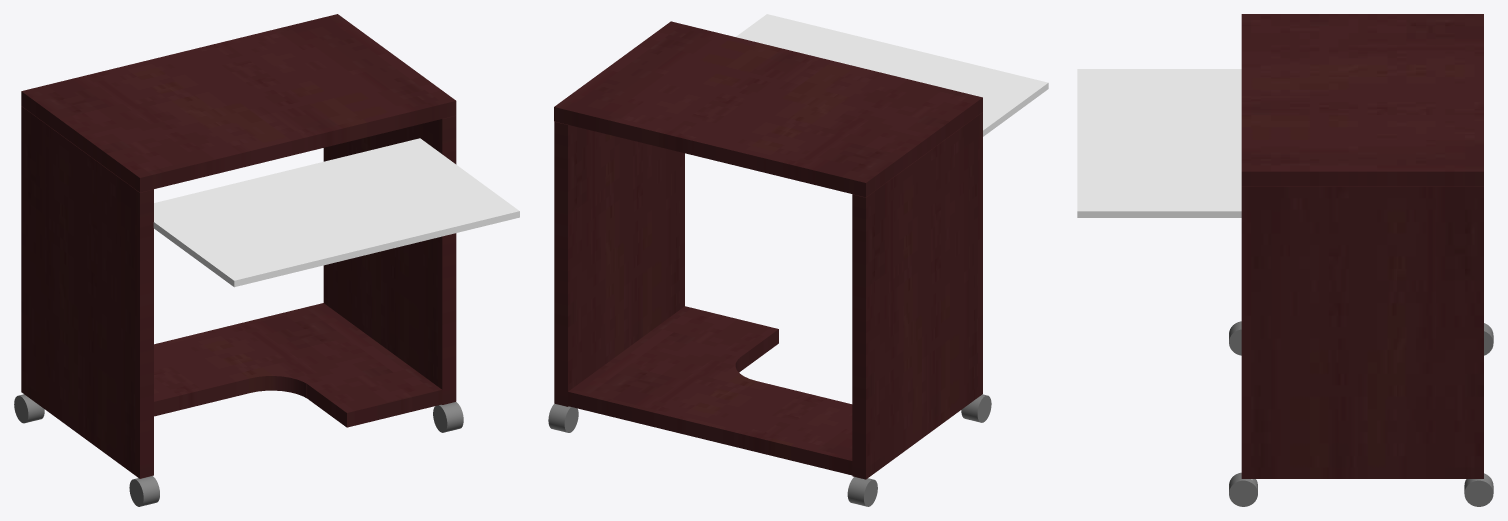
Rendered from sweethome3d-contributions-desk-325.glb.
3 renders of one model, left to right at view 1: azimuth 30°, elevation 25°; view 2: azimuth 150°, elevation 25°; view 3: azimuth 270°, elevation 25°, orthographic. The views are drawn at different scales.
Visible parts, largest first — view 1: Cube_17_1, Cube_18_2, Cube_19_5, Boolean_3_4, Cube_18_1_3, Cylinder_9_1_9, Cylinder_9_6, Cylinder_9_2_10; view 2: Cube_17_1, Cube_18_2, Cube_18_1_3, Boolean_3_4, Cube_19_5, Cylinder_9_2_10, Cylinder_9_3_13, Cylinder_9_1_9; view 3: Cube_18_1_3, Cube_17_1, Cube_19_5, Cylinder_9_6, Cylinder_9_3_13.
Part boxes in pixels (x1,y1,x2,y2): Cube_17_1: [21, 14, 456, 192]; Cube_18_2: [21, 106, 153, 478]; Cube_19_5: [153, 138, 519, 287]; Boolean_3_4: [154, 303, 442, 427]; Cube_18_1_3: [323, 115, 456, 404]; Cylinder_9_1_9: [129, 476, 159, 506]; Cylinder_9_6: [433, 402, 463, 432]; Cylinder_9_2_10: [14, 394, 44, 423]; Cube_17_1: [554, 21, 982, 197]; Cube_18_2: [852, 112, 982, 479]; Cube_18_1_3: [554, 121, 684, 406]; Boolean_3_4: [568, 306, 852, 475]; Cube_19_5: [736, 14, 1048, 136]; Cylinder_9_2_10: [847, 477, 877, 506]; Cylinder_9_3_13: [548, 403, 578, 432]; Cylinder_9_1_9: [961, 394, 991, 422]; Cube_18_1_3: [1241, 186, 1483, 478]; Cube_17_1: [1241, 14, 1483, 186]; Cube_19_5: [1077, 69, 1241, 217]; Cylinder_9_6: [1229, 472, 1257, 506]; Cylinder_9_3_13: [1464, 473, 1493, 506].
Size of the model in its own units: 77.87 by 76.46 by 85.87.
4 materials, 1 textured.
